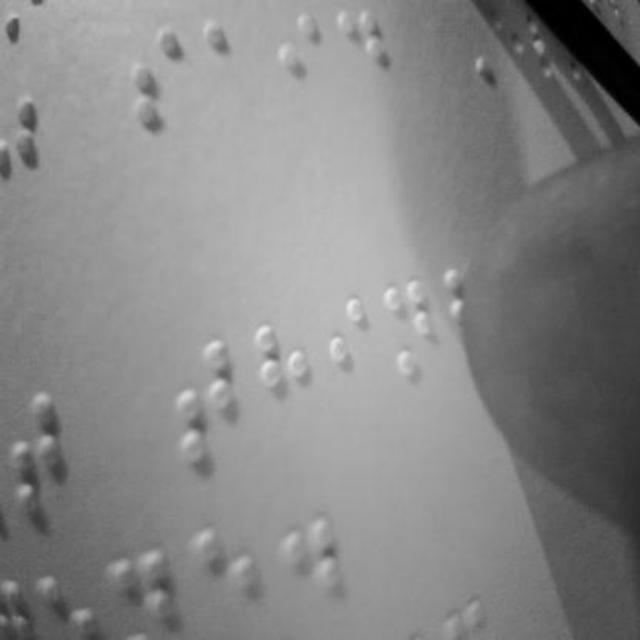braiile: (2, 372, 76, 514), (169, 328, 239, 462), (192, 512, 262, 640), (250, 311, 314, 429), (379, 268, 437, 396), (130, 20, 190, 136), (319, 289, 377, 407), (275, 7, 331, 111), (336, 5, 389, 109), (198, 14, 250, 112)
